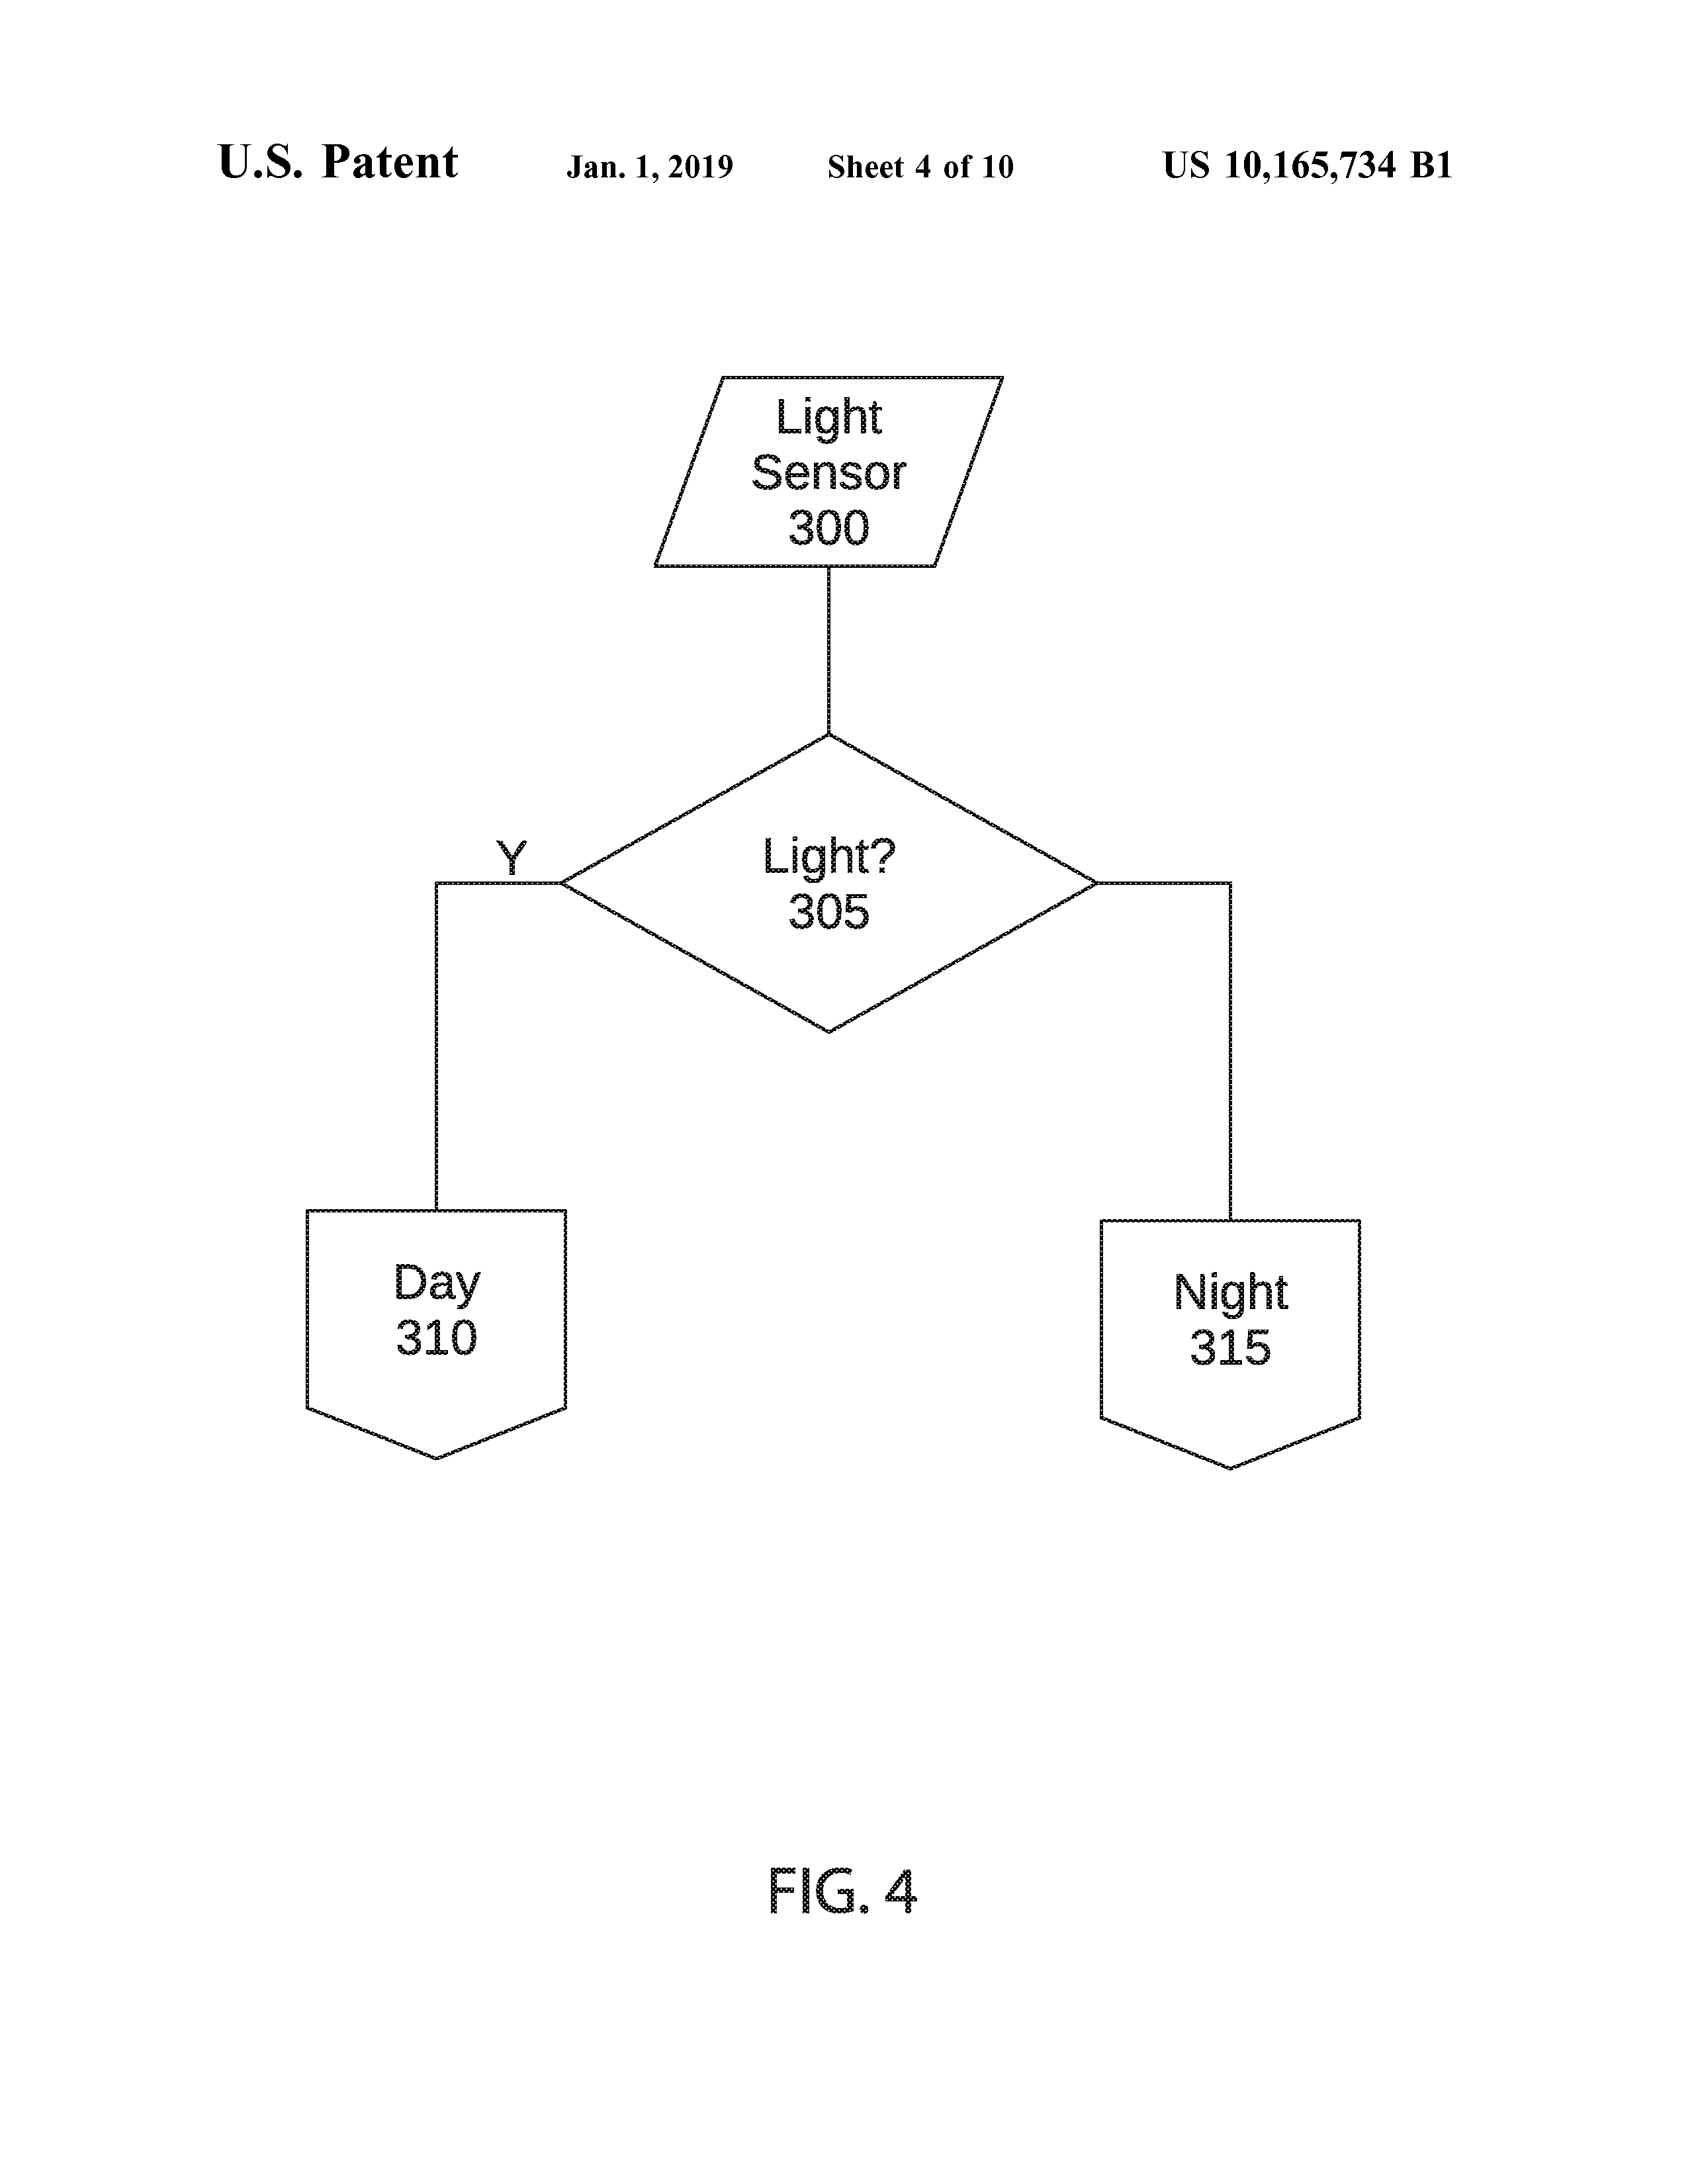patent image: (267, 351, 1444, 2028)
